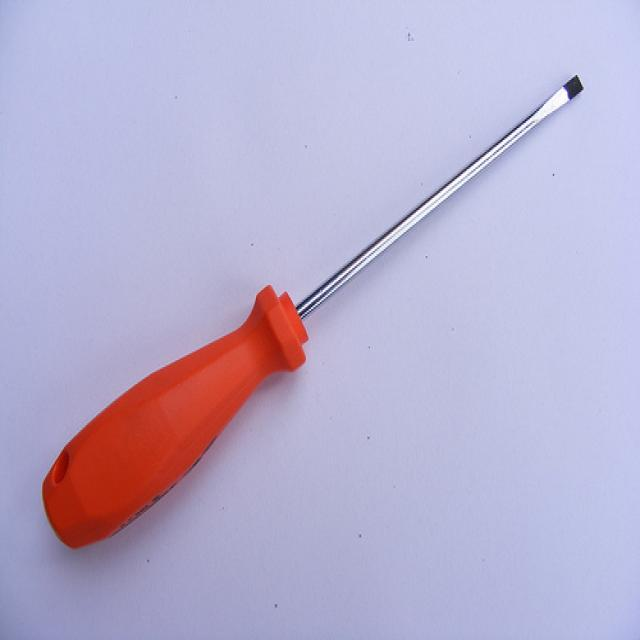screwdriver: (9, 61, 608, 573)
